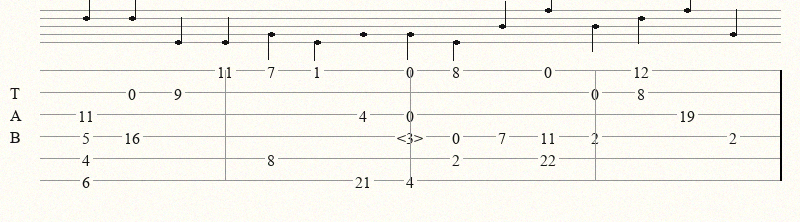0: (128, 85, 140, 100), (406, 63, 418, 78), (406, 107, 418, 122), (452, 129, 464, 144), (544, 63, 556, 78), (591, 85, 603, 100)
1: (313, 63, 325, 78)
11: (78, 107, 98, 122), (217, 63, 237, 78), (540, 129, 560, 144)
12: (633, 63, 653, 78)
16: (124, 129, 144, 144)
19: (679, 107, 699, 122)
2: (452, 151, 464, 166), (591, 129, 603, 144), (729, 129, 741, 144)
21: (355, 173, 375, 188)
22: (540, 151, 560, 166)
4: (82, 151, 94, 166), (359, 107, 371, 122), (406, 173, 418, 188)
5: (82, 129, 94, 144)
6: (82, 173, 94, 188)
7: (267, 63, 279, 78), (498, 129, 510, 144)
8: (267, 151, 279, 166), (452, 63, 464, 78), (637, 85, 649, 100)
9: (174, 85, 186, 100)
harmonic: (397, 129, 427, 144)
